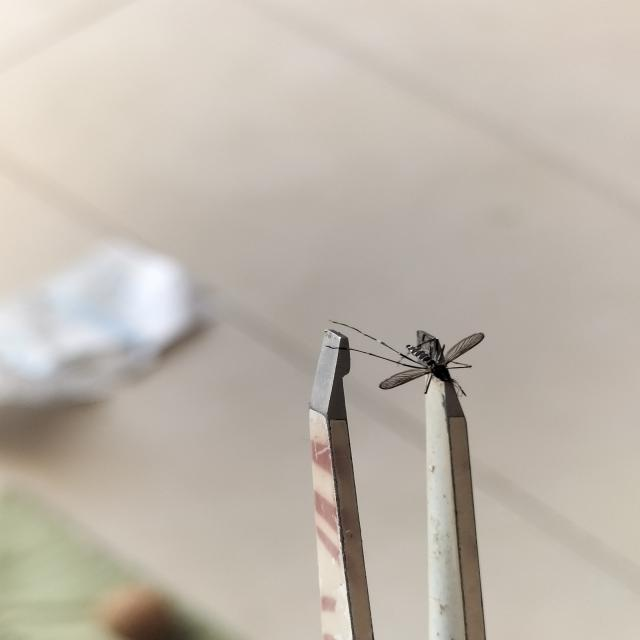albopictus: (320, 313, 478, 401)
